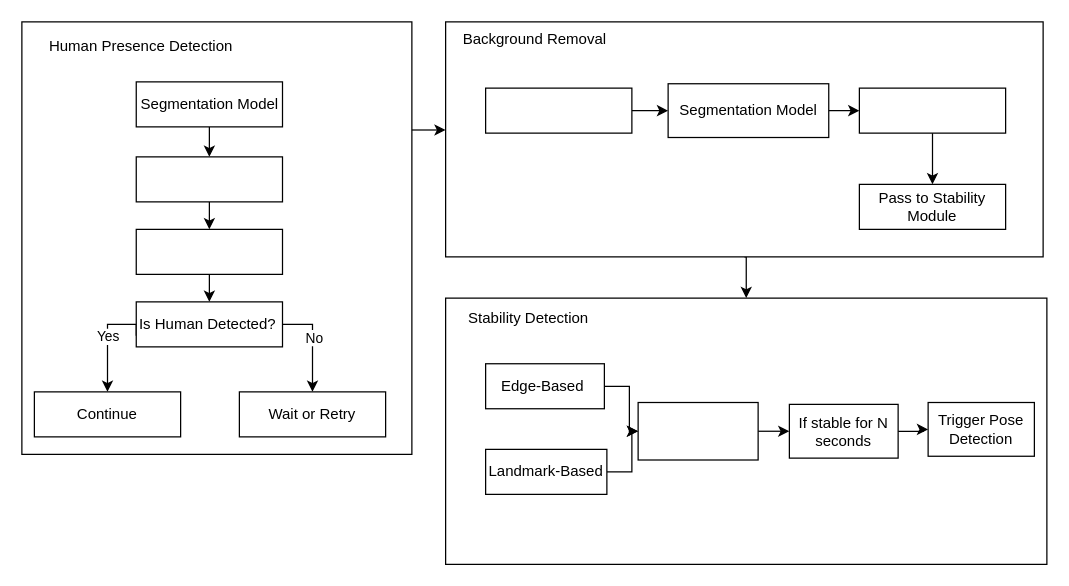
The diagram is 1069 pixels wide and 586 high, and some of its shapes have lost their labels. The centre of each missing label's shape, as x and y in pixels:
Apply GrabCut: point 558,110
Contour Detection: point 208,179
Draw Bounding Boxes: point 208,251
Output: Only human subject: point 932,110
Update Stability Time Counter: point 697,430
